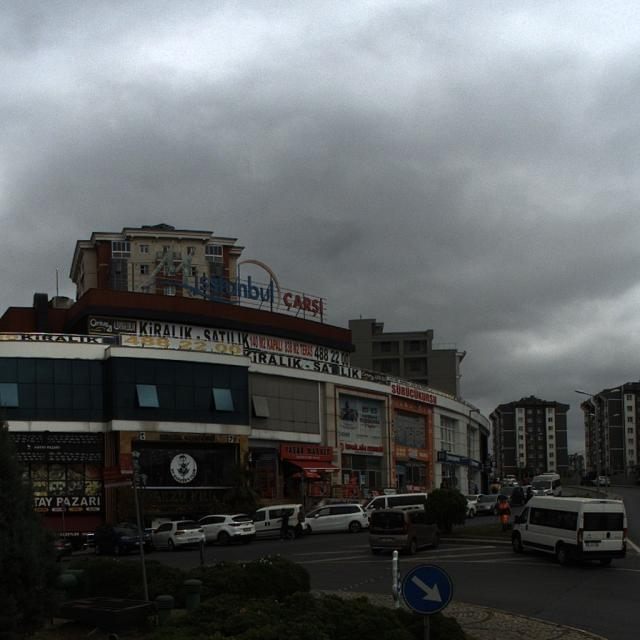SignStore: (143, 489, 233, 515), (31, 496, 103, 515), (88, 314, 140, 335), (390, 382, 437, 405), (279, 443, 333, 461), (340, 441, 383, 457), (361, 370, 386, 384), (407, 449, 418, 458)
